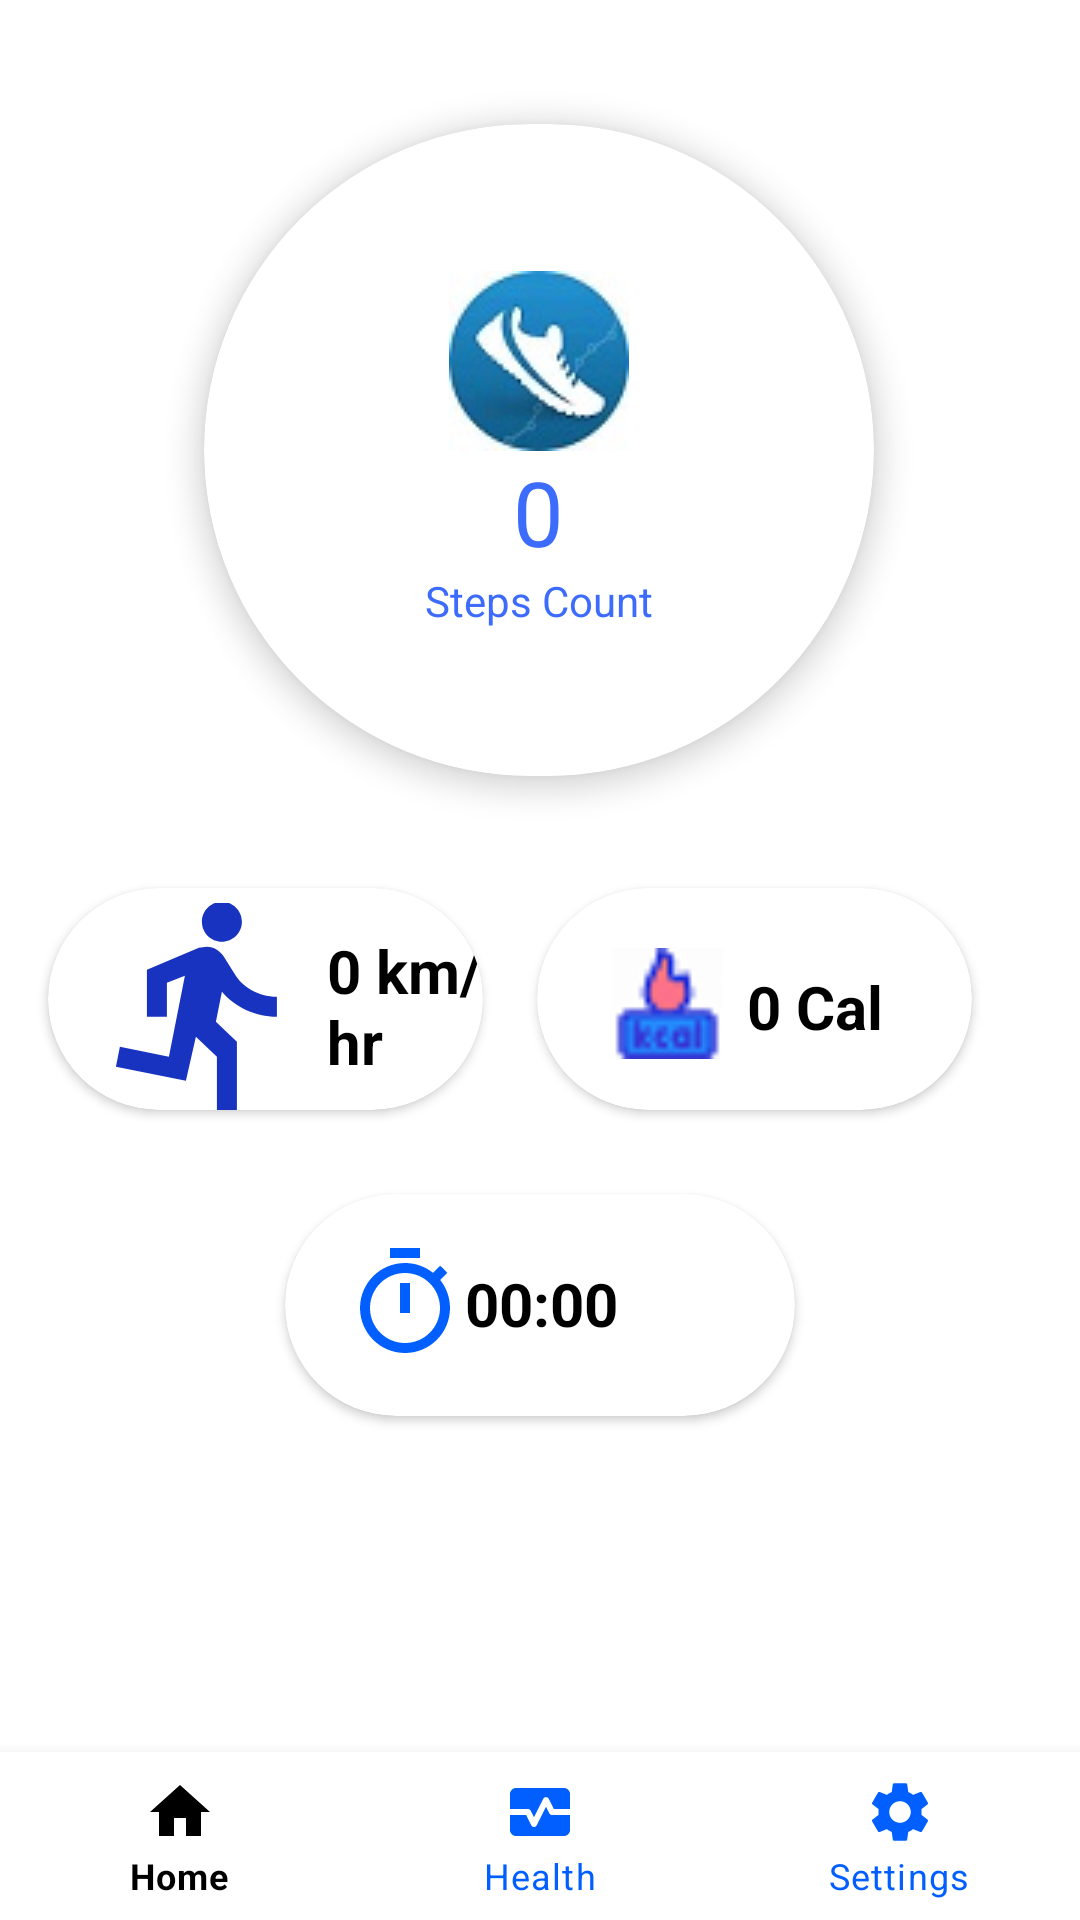

Locate icon controls on the screen. Image size 1080px×1920px, boxes as (x1, y1, x2, y2).
foot: (449, 271, 629, 451)
